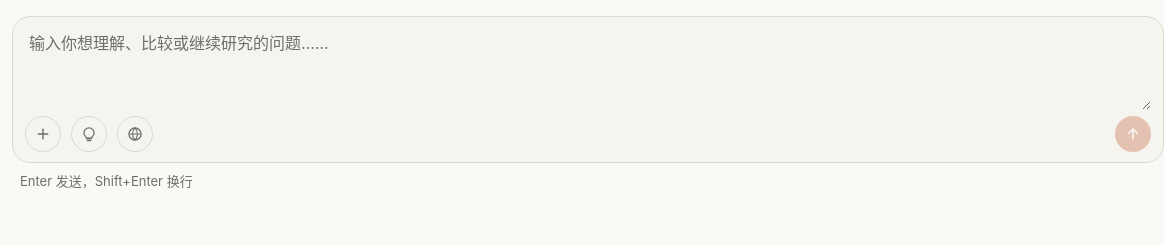
Test: ChatComposer › 提交失败保留文字并提示尚未确认保存
Type "保留这段草稿" into the text box named "你的问题" at (588, 69), box [25,29,1151,110]
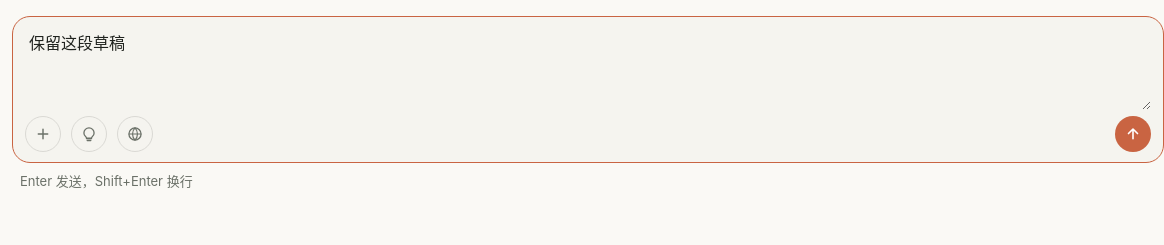
Click the button named "发送" at (1133, 134), box [1115,116,1151,152]
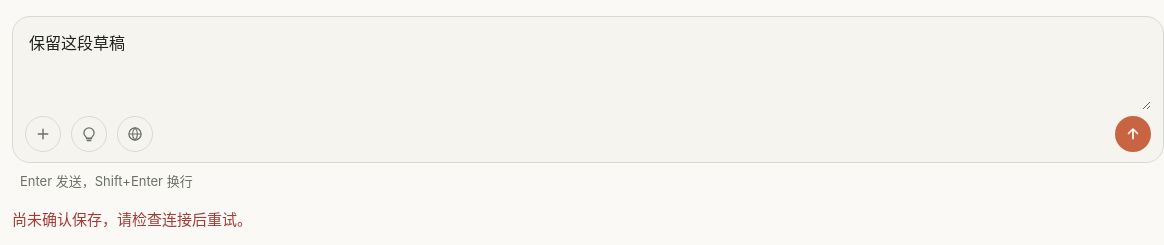
expect the text "尚未确认保存，请检查连接后重试。" is shown: met, box [12,210,252,229]
